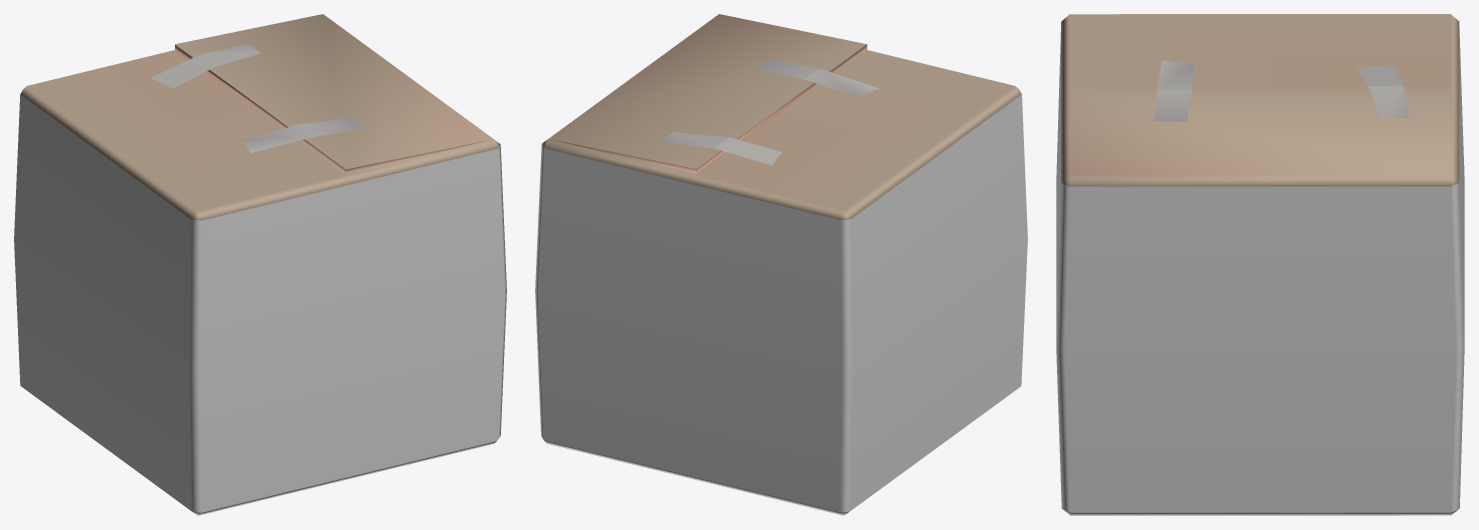
The model's file is obstacle-evil_box_02_H1.glb.
3 views of the same model, side by side, from view 1: azimuth 30°, elevation 25°; view 2: azimuth 150°, elevation 25°; view 3: azimuth 270°, elevation 25° (orthographic). The views are drawn at different scales.
Visible parts, largest first — view 1: obstacle-evil_box_02_H1; view 2: obstacle-evil_box_02_H1; view 3: obstacle-evil_box_02_H1.
Part boxes in pixels (x1,y1,x2,y2): obstacle-evil_box_02_H1: (14, 14, 506, 515); obstacle-evil_box_02_H1: (535, 14, 1027, 515); obstacle-evil_box_02_H1: (1056, 14, 1464, 515).
Size of the model in its own units: 2.34 by 2.22 by 2.34.
